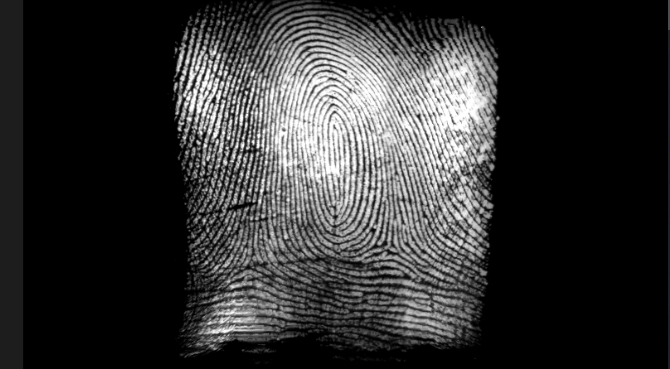deltas: (371, 226, 409, 271), (230, 238, 268, 280)
nucleo: (319, 108, 355, 154)
